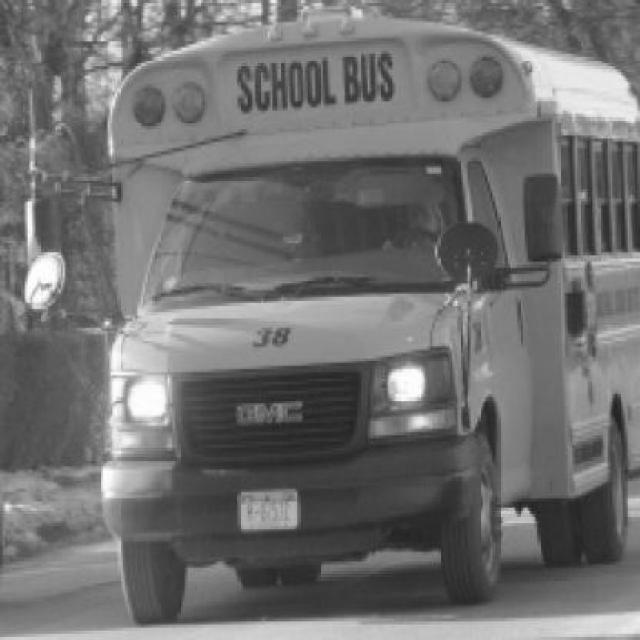Bus- Small: (20, 17, 640, 626)
